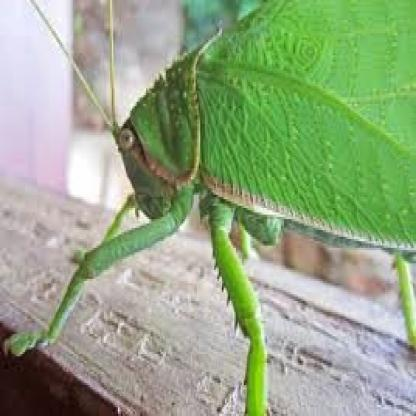grasshopper: (1, 3, 415, 416)
